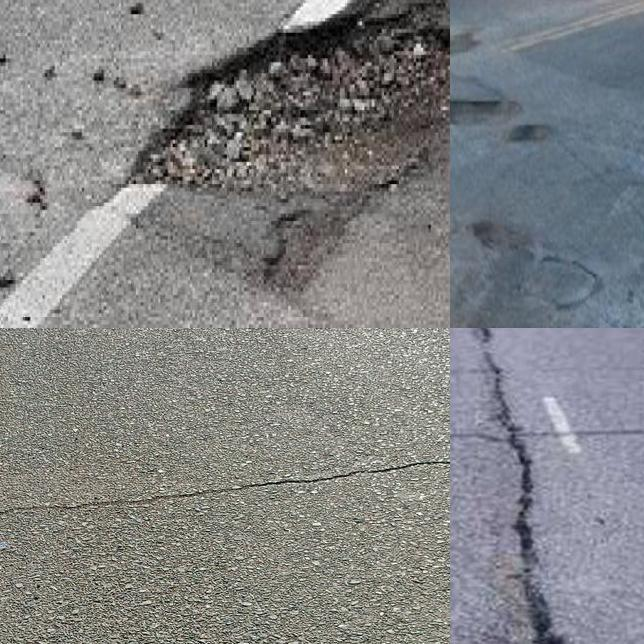Lubang: (135, 0, 450, 291), (450, 97, 520, 129)
Melintang: (0, 449, 450, 529)
Memanjang: (461, 328, 584, 644)
